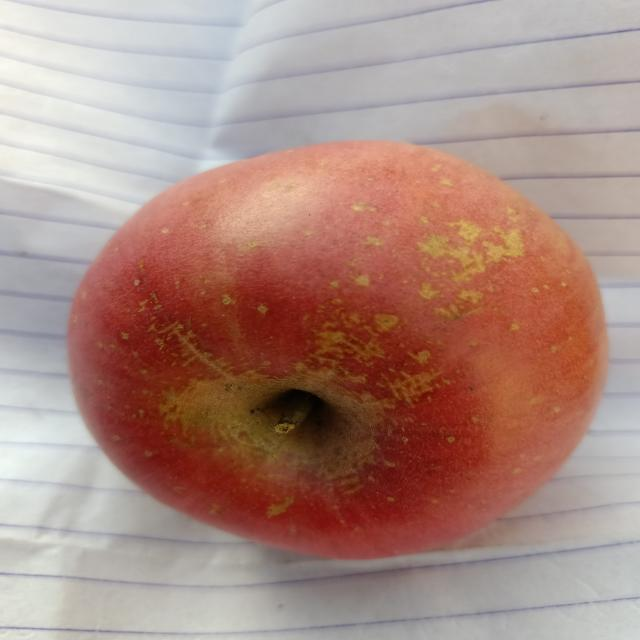Fresh Apple: (73, 152, 597, 550)
